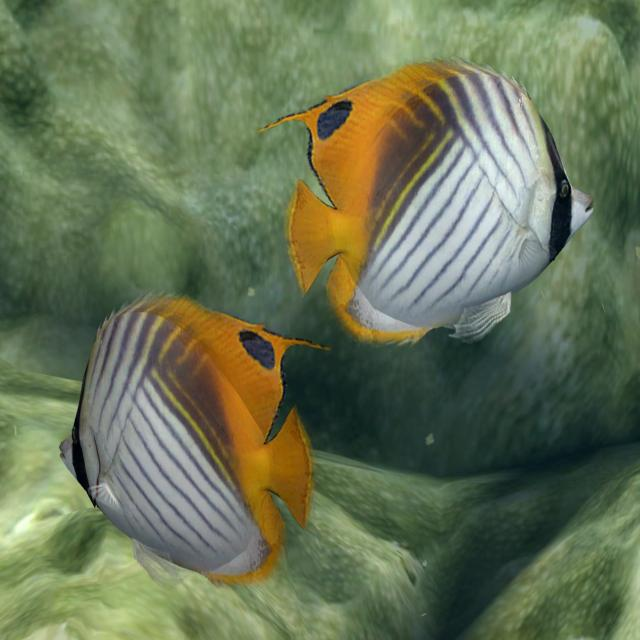ButterflyFish: (274, 55, 596, 341), (59, 298, 316, 584)
